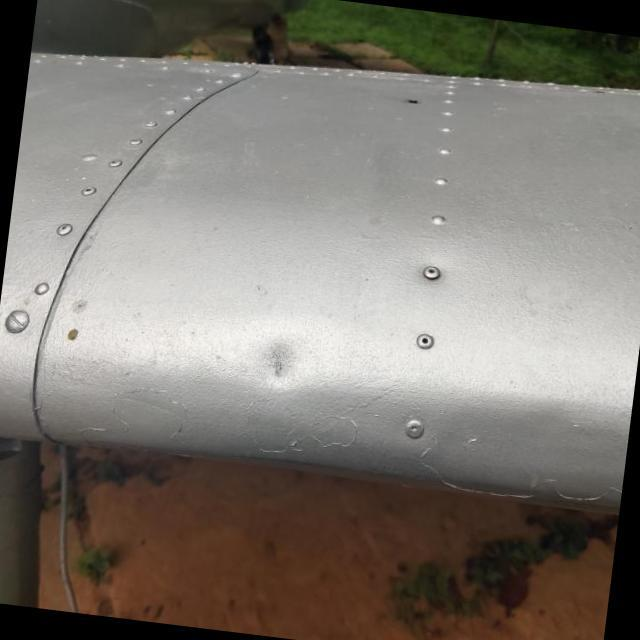Dent: (226, 308, 337, 417)
